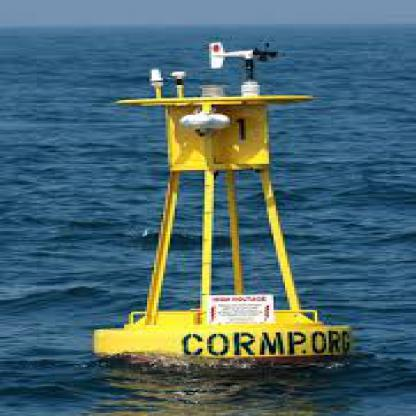buoy: (90, 38, 356, 368)
